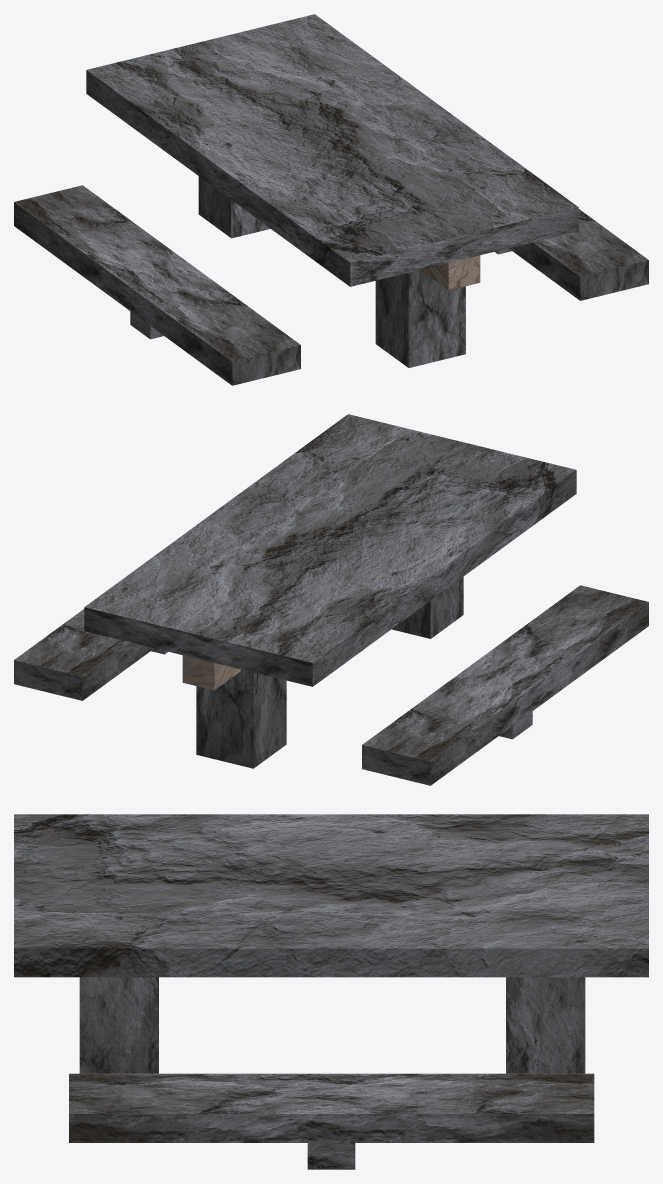
Rendered from Piknik_Bankje.fbx.
The picture shows the model from 3 angles, top to bottom: view 1: azimuth 30°, elevation 25°; view 2: azimuth 150°, elevation 25°; view 3: azimuth 270°, elevation 25°; orthographic projection. The views are drawn at different scales.
Visible parts, largest first — view 1: Cube, Cube.002, Cube.001; view 2: Cube, Cube.002, Cube.001; view 3: Cube, Cube.001.
Part boxes in pixels (left/top/right/bottom): Cube: left=86, top=14, right=578, bottom=367; Cube.002: left=14, top=185, right=300, bottom=385; Cube.001: left=495, top=209, right=648, bottom=300; Cube: left=84, top=414, right=576, bottom=768; Cube.002: left=362, top=585, right=648, bottom=785; Cube.001: left=14, top=609, right=167, bottom=700; Cube: left=14, top=814, right=648, bottom=1073; Cube.001: left=69, top=1073, right=594, bottom=1169.
Bounding box in the file's own units: 182 × 61.36 × 200.
Materials: 2 (2 with a texture image).
